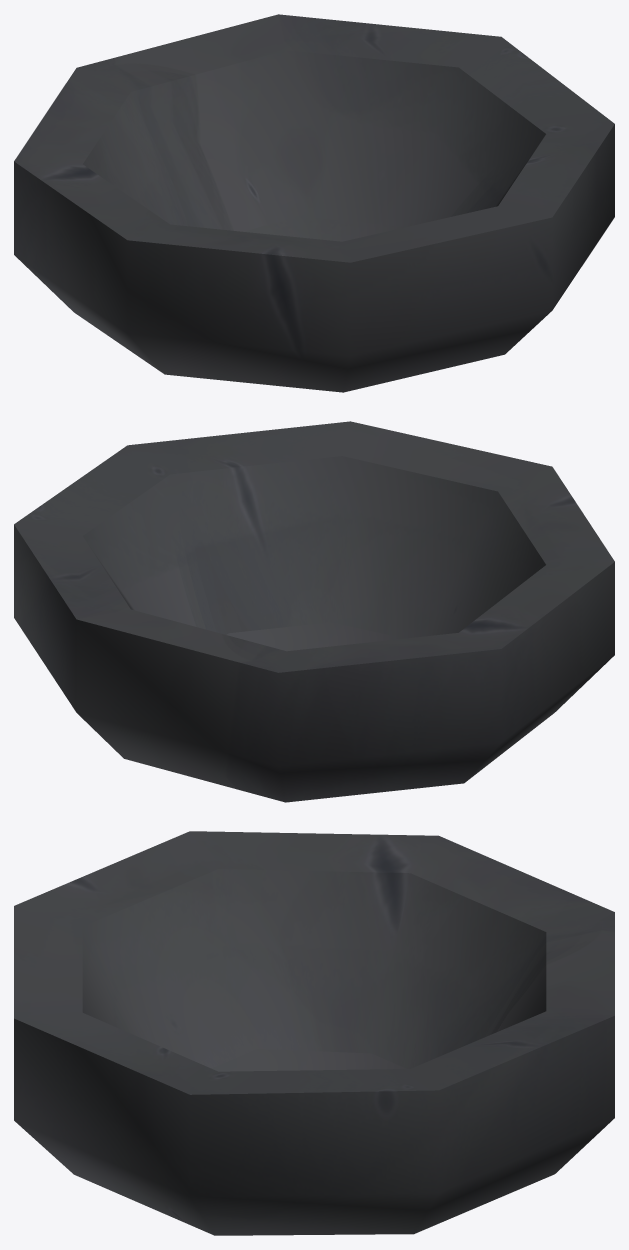
Rendered from SM_PROP_bowl_metal.fbx.
3 renders of one model, top to bottom at view 1: azimuth 30°, elevation 25°; view 2: azimuth 150°, elevation 25°; view 3: azimuth 270°, elevation 25°, orthographic. The views are drawn at different scales.
Parts seen in each view (by area): view 1: SM_PROP_bowl_metal; view 2: SM_PROP_bowl_metal; view 3: SM_PROP_bowl_metal.
Part boxes in pixels (x1,y1,x2,y2): SM_PROP_bowl_metal: (14,14,614,392); SM_PROP_bowl_metal: (14,421,614,802); SM_PROP_bowl_metal: (14,831,614,1235).
Bounding box in the file's own units: 34.82 × 12.77 × 33.9.
